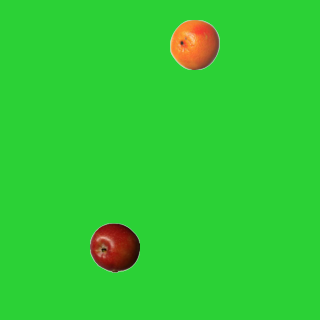Apple Braeburn: (89, 222, 139, 272)
Grapefruit Pink: (169, 19, 219, 69)
